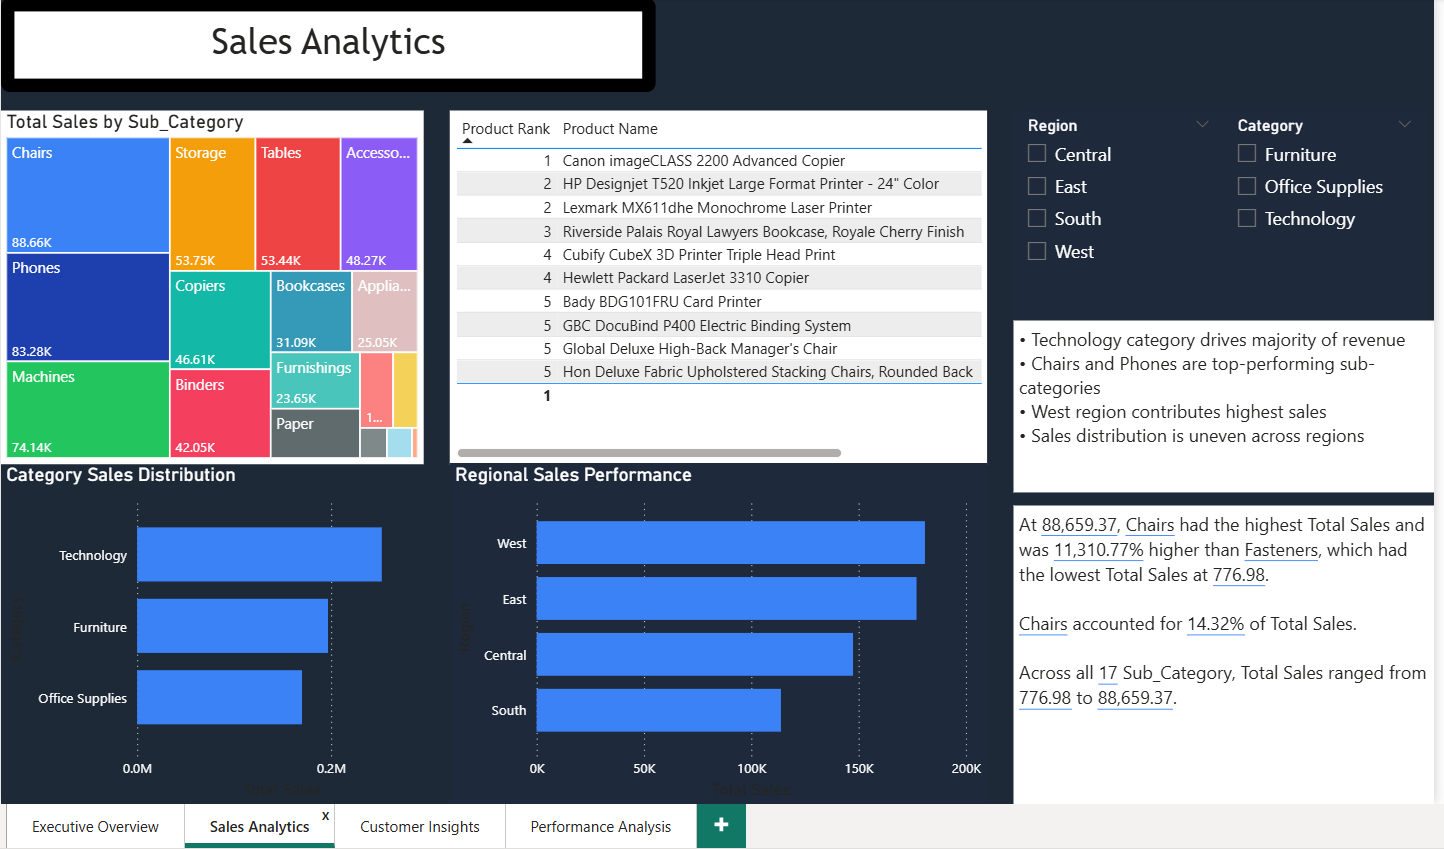

Layout of this report page (visuals, bound fields, positions):
{"tool":"powerbi","page":{"name":"Sales Analytics","canvas":[1280,720],"ordinal":1},"visuals":[{"type":"barChart","title":"Category Sales Distribution","fields":{"Y":["train.Total Sales"],"Category":["train.Category"]},"box":[0,415.8,400.7,304.6],"z":0},{"type":"treemap","fields":{"Group":["train.Sub_Category"],"Values":["train.Total Sales"]},"box":[0,100.2,377.4,315.6],"z":1000},{"type":"tableEx","fields":{"Values":["train.Product Rank","train.Product Name","train.Category","train.Total Sales"]},"box":[400.7,100.2,480.3,315.6],"z":2000},{"type":"slicer","fields":{"Values":["train.Region"]},"box":[904.3,100.2,188,188],"z":3000},{"type":"slicer","fields":{"Values":["train.Category"]},"box":[1092.3,100.2,181.1,188],"z":4000},{"type":"textbox","box":[0,0,585.1,83.7],"z":5000},{"type":"clusteredBarChart","title":"Regional Sales Performance","fields":{"Category":["train.Region"],"Y":["train.Total Sales"]},"box":[400.7,415.8,480.3,304.6],"z":6000},{"type":"textbox","box":[904.3,452.8,376,267.6],"z":7000},{"type":"textbox","box":[904.3,288.2,376,153.7],"z":8000}]}

Visuals, with their boxes in screenshot pixels (x1, y1, x2, y2):
"Category Sales Distribution" barChart: 0, 459, 446, 798
treemap - train.Sub_Category x train.Total Sales: 0, 108, 420, 459
tableEx - train.Product Rank x train.Product Name: 446, 108, 980, 459
slicer - train.Region: 1006, 108, 1215, 317
slicer - train.Category: 1215, 108, 1417, 317
textbox: 0, 0, 651, 89
"Regional Sales Performance" clusteredBarChart: 446, 459, 980, 798
textbox: 1006, 500, 1424, 798
textbox: 1006, 317, 1424, 488
